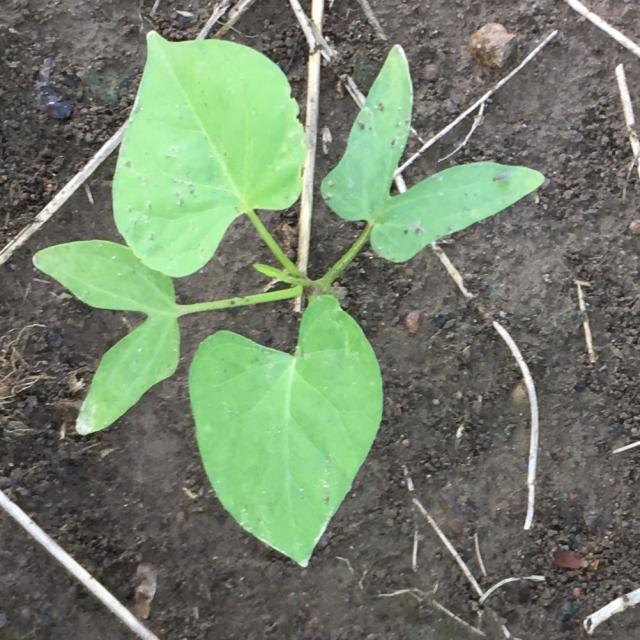MorningGlory: (33, 31, 544, 564)
